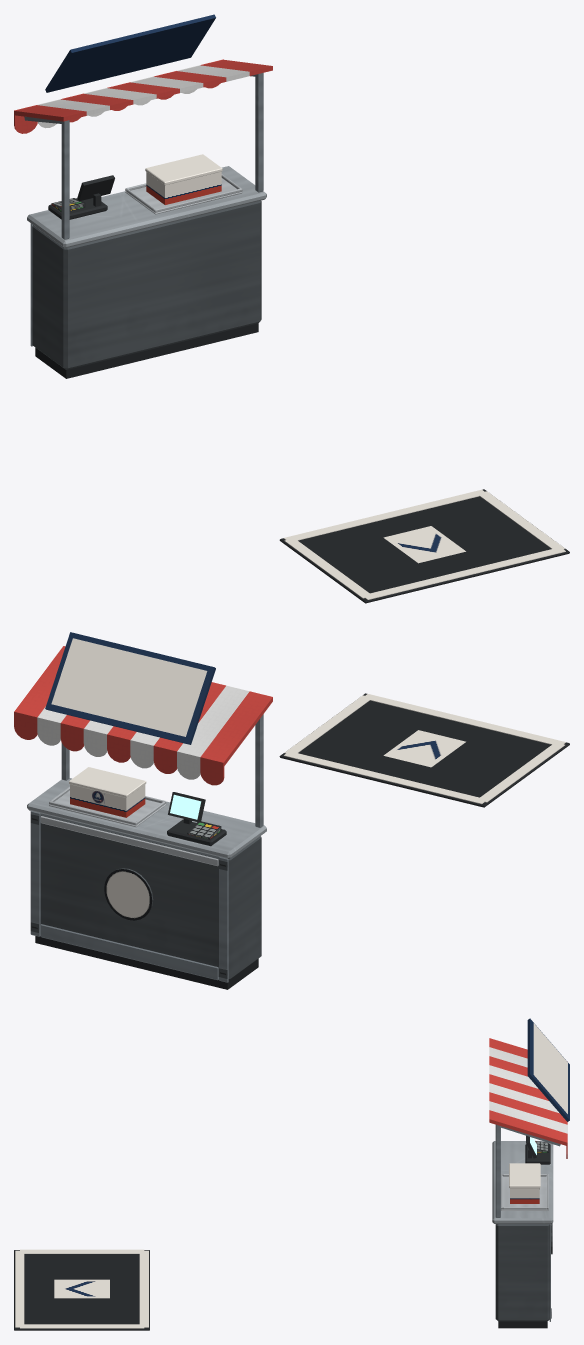
File: order_stand.glb
The picture shows the model from 3 angles, top to bottom: view 1: azimuth 30°, elevation 25°; view 2: azimuth 150°, elevation 25°; view 3: azimuth 270°, elevation 25°; orthographic projection. The views are drawn at different scales.
Parts seen in each view (by area): view 1: counter, delivery_zone, DeliveryFrame, awning_1, OrderPlateFrame, tray, tpv; view 2: counter, delivery_zone, awning_1, OrderPlatePaper, DeliveryFrame, tray, OrderPlateFrame, tpv; view 3: counter, delivery_zone, awning_1, DeliveryFrame, tray, OrderPlatePaper, OrderPlateFrame, tpv.
Boxes of the visible parts, left/top/right/bottom form: counter: left=24, top=73, right=266, bottom=378; delivery_zone: left=279, top=489, right=569, bottom=603; DeliveryFrame: left=283, top=489, right=565, bottom=599; awning_1: left=14, top=59, right=272, bottom=133; OrderPlateFrame: left=45, top=14, right=215, bottom=92; tray: left=125, top=154, right=242, bottom=214; tpv: left=48, top=175, right=114, bottom=219; counter: left=27, top=714, right=266, bottom=989; delivery_zone: left=279, top=693, right=569, bottom=807; awning_1: left=14, top=646, right=272, bottom=785; OrderPlatePaper: left=51, top=638, right=207, bottom=736; DeliveryFrame: left=283, top=694, right=565, bottom=804; tray: left=49, top=767, right=166, bottom=827; OrderPlateFrame: left=45, top=632, right=215, bottom=744; tpv: left=167, top=792, right=226, bottom=846; counter: left=492, top=1124, right=560, bottom=1328; delivery_zone: left=14, top=1250, right=149, bottom=1330; awning_1: left=489, top=1038, right=567, bottom=1158; DeliveryFrame: left=15, top=1249, right=148, bottom=1328; tray: left=501, top=1163, right=548, bottom=1210; OrderPlatePaper: left=533, top=1023, right=567, bottom=1113; OrderPlateFrame: left=527, top=1018, right=569, bottom=1121; tpv: left=525, top=1135, right=550, bottom=1164.
Bounding box in the file's own units: 1.48 × 2.08 × 4.29.
Materials: 14 (12 with a texture image).
